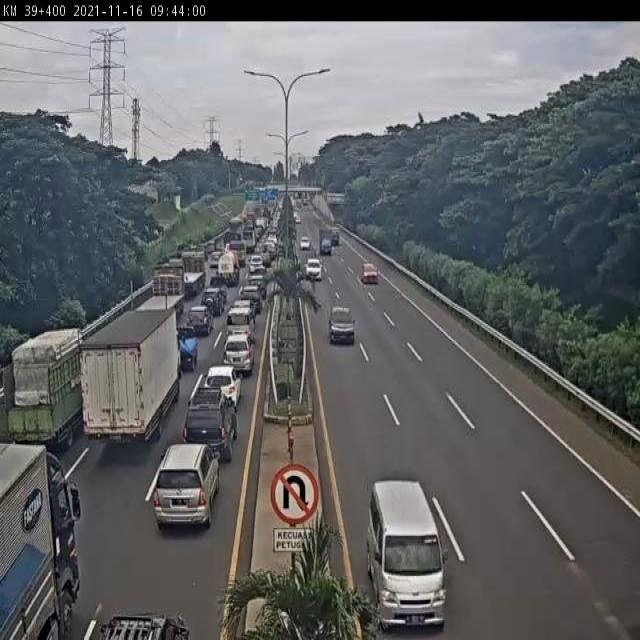Car: (152, 442, 220, 526), (202, 365, 243, 411), (223, 332, 255, 376), (328, 304, 356, 345), (186, 305, 213, 336), (226, 303, 255, 330), (200, 287, 226, 317), (238, 284, 262, 311), (360, 263, 378, 284), (305, 258, 322, 280), (208, 250, 224, 270), (249, 255, 264, 273), (260, 250, 272, 267), (267, 226, 277, 242), (276, 196, 285, 212), (331, 230, 340, 246), (300, 237, 310, 250), (294, 213, 300, 225), (303, 198, 308, 206)
Truck: (1, 443, 82, 640), (80, 306, 180, 448), (5, 329, 84, 452), (153, 261, 186, 302), (181, 249, 207, 292), (228, 217, 245, 244), (245, 212, 256, 233), (204, 239, 217, 256), (264, 206, 273, 224), (255, 223, 264, 240), (274, 244, 284, 258), (284, 194, 294, 206), (270, 197, 278, 210), (294, 191, 302, 200), (309, 192, 315, 200)
Van: (367, 479, 448, 628)
